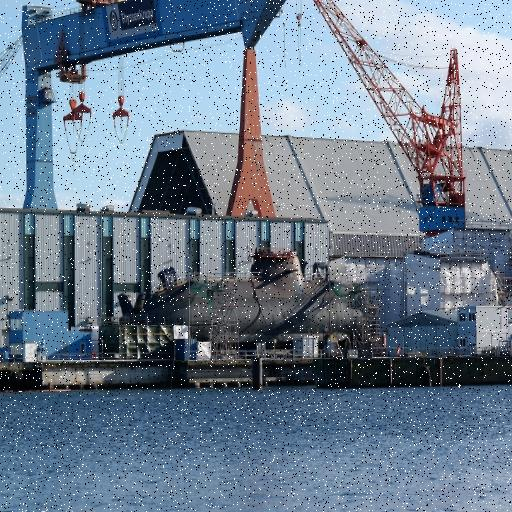submarine: (115, 249, 374, 335)
